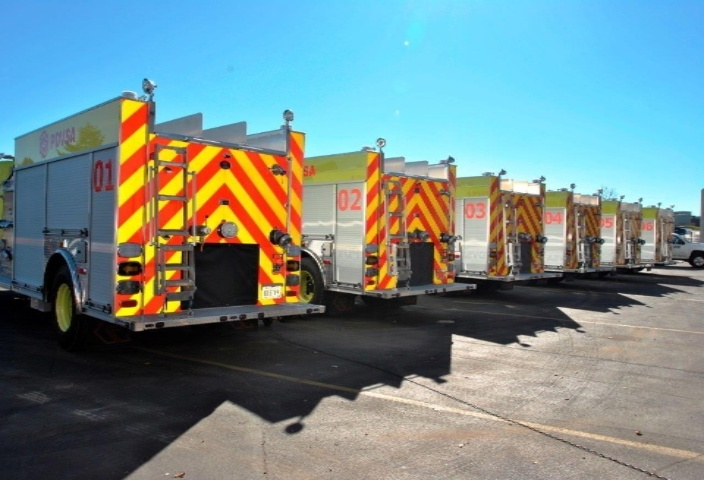truck: (1, 79, 335, 371), (286, 121, 490, 337), (450, 173, 574, 310), (532, 178, 604, 291), (591, 188, 652, 277), (635, 187, 678, 277)
